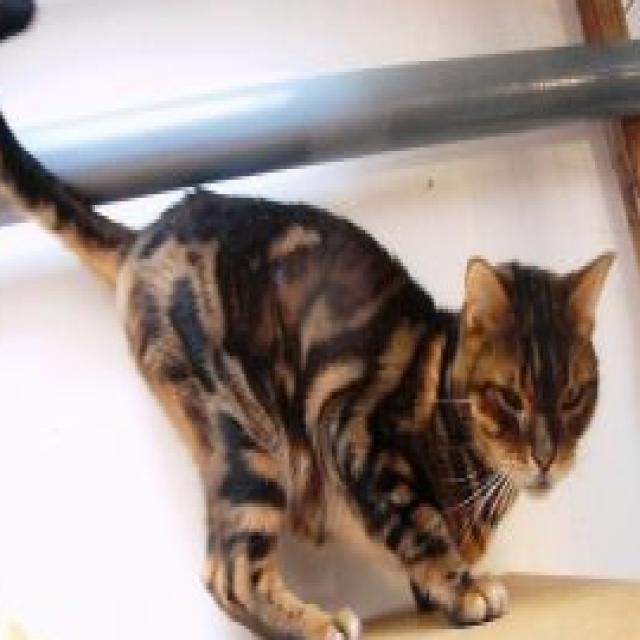Bengal: (0, 0, 612, 640)
